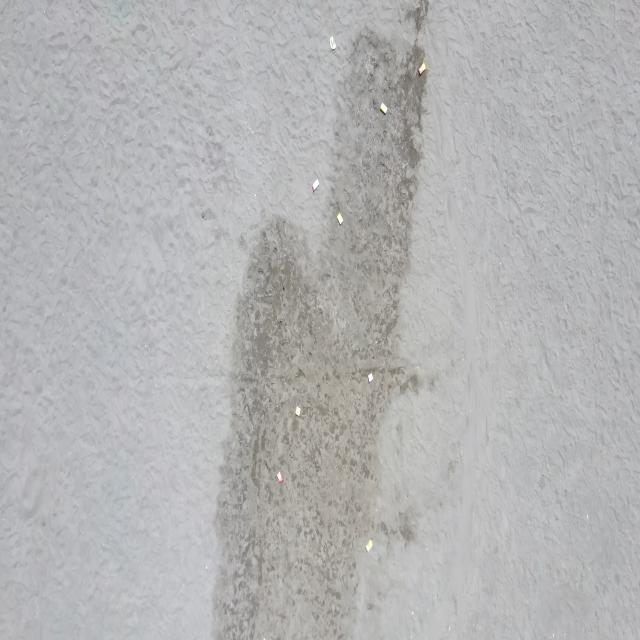retort-pouch: (379, 100, 388, 117), (365, 537, 373, 555), (329, 35, 337, 52), (311, 177, 320, 192), (336, 210, 344, 226), (418, 62, 427, 76), (276, 470, 284, 484), (294, 404, 302, 418), (367, 372, 374, 384)
